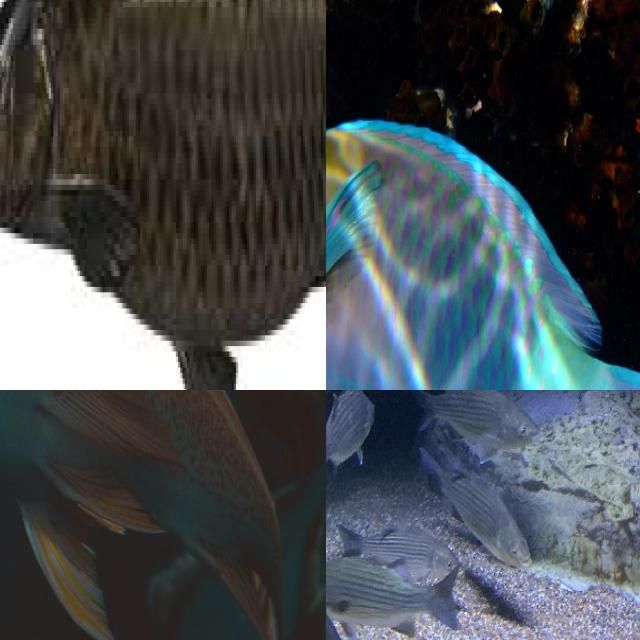fish: (0, 0, 326, 390), (326, 110, 640, 390), (0, 390, 326, 640), (405, 390, 538, 451)
